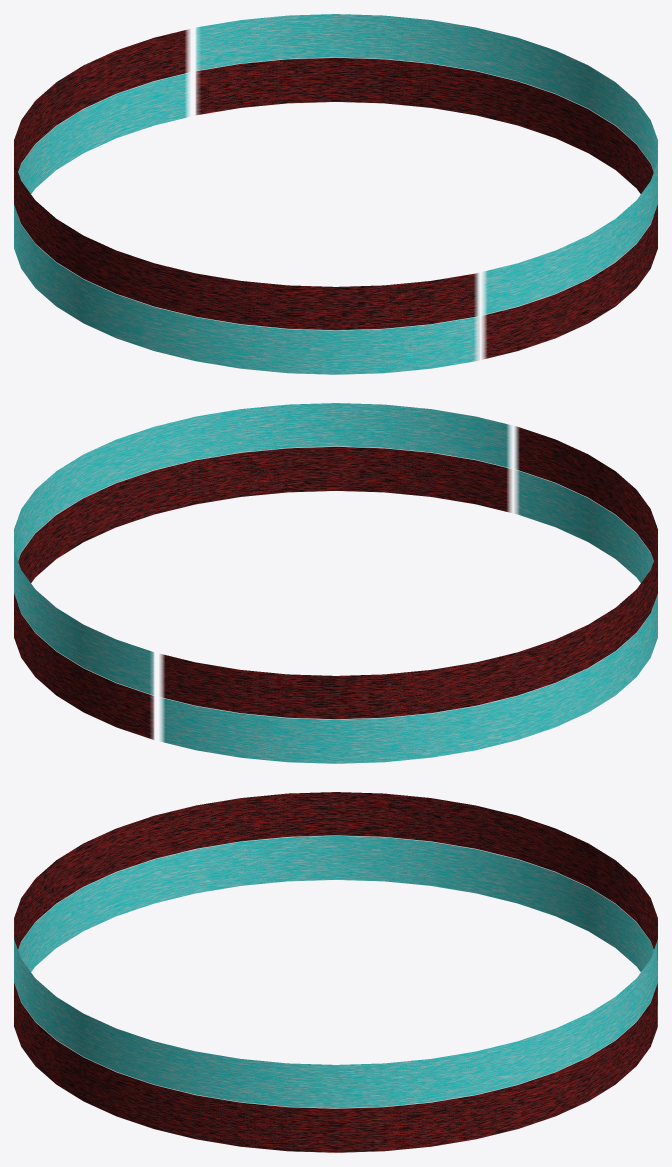
3 renders of one model, top to bottom at view 1: azimuth 30°, elevation 25°; view 2: azimuth 150°, elevation 25°; view 3: azimuth 270°, elevation 25°, orthographic.
Visible parts, largest first — view 1: SM_Cylinder_01_LOD0; view 2: SM_Cylinder_01_LOD0; view 3: SM_Cylinder_01_LOD0.
Boxes of the visible parts, x1,y1,x2,y2 form: SM_Cylinder_01_LOD0: [14, 14, 657, 374]; SM_Cylinder_01_LOD0: [14, 403, 657, 763]; SM_Cylinder_01_LOD0: [14, 792, 657, 1152].
Bounding box in the file's own units: 1.02 × 0.1534 × 1.02.
